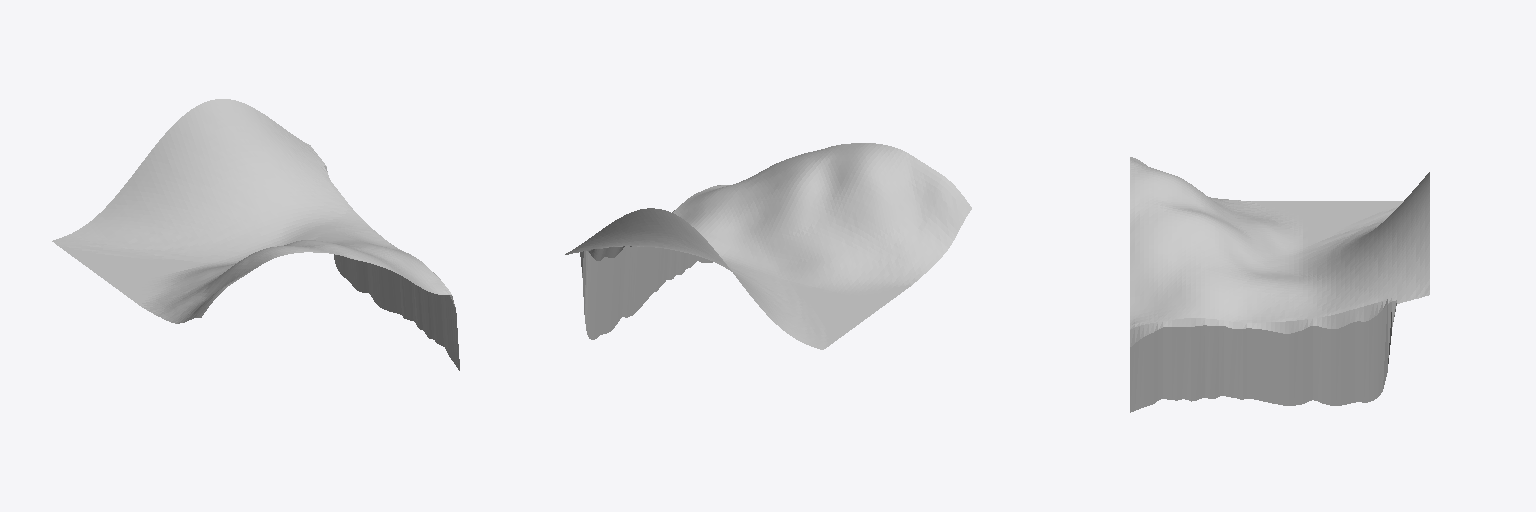
Rendered from SM_Terrain_Tuto2Chunk0.1.obj.
3 renders of one model, left to right at view 1: azimuth 30°, elevation 25°; view 2: azimuth 150°, elevation 25°; view 3: azimuth 270°, elevation 25°, orthographic.
Size of the model in its own units: 100 by 69.13 by 100.